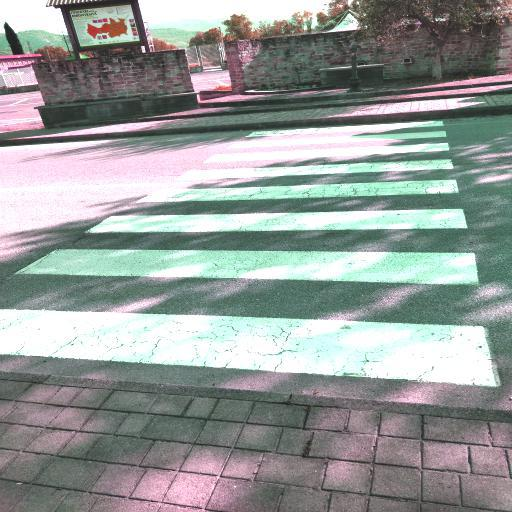crosswalk: (76, 176, 484, 238), (204, 128, 455, 166)
